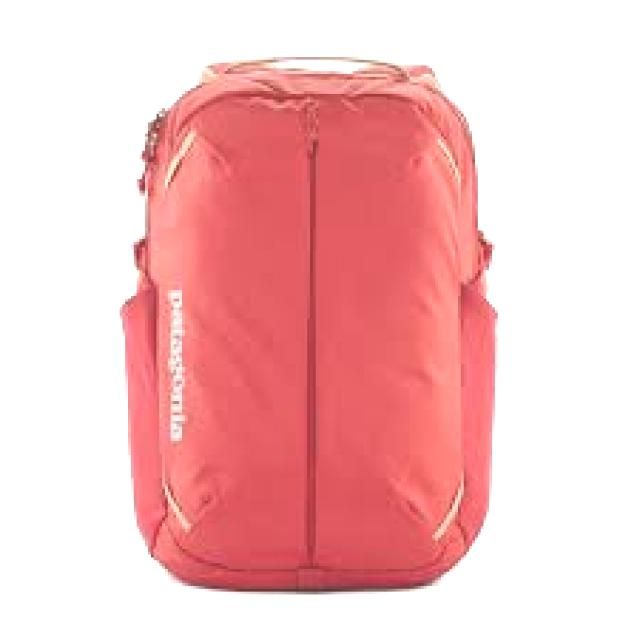backpack: (118, 55, 499, 593)
